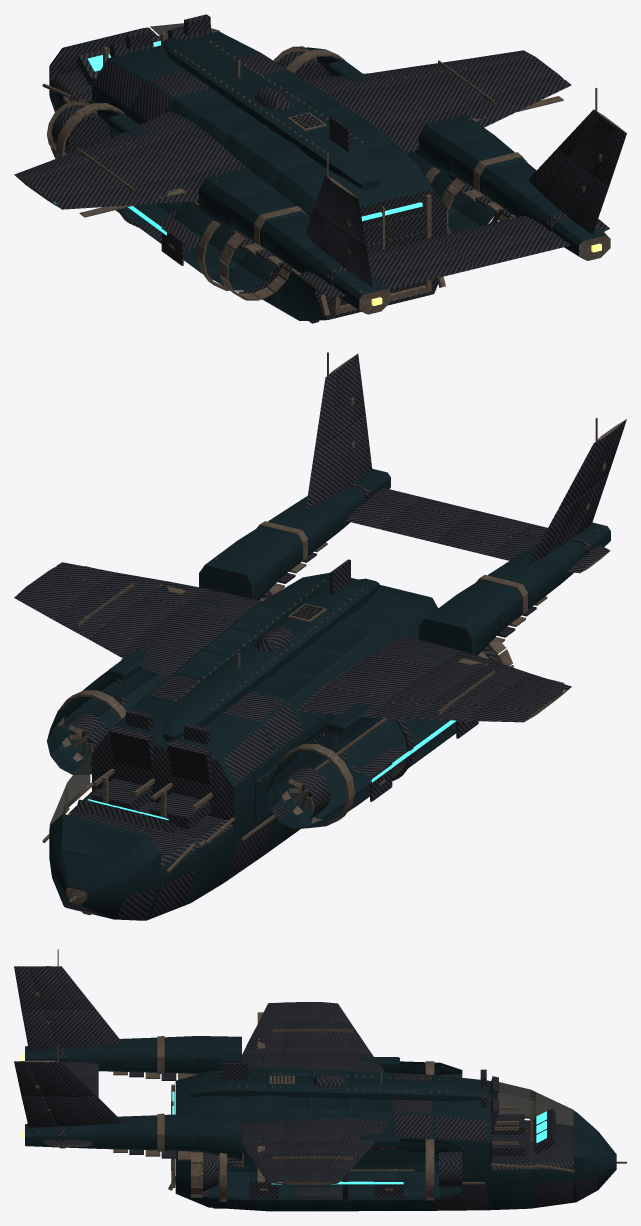
3 views of the same model, one above another, from view 1: azimuth 30°, elevation 25°; view 2: azimuth 150°, elevation 25°; view 3: azimuth 270°, elevation 25° (orthographic). The views are drawn at different scales.
Parts seen in each view (by area): view 1: kb7_core, kb7_tail_r, kb7_wing_r, kb7_wing_l, kb7_tail_l; view 2: kb7_core, kb7_tail_r, kb7_wing_r, kb7_wing_l, kb7_tail_l; view 3: kb7_core, kb7_tail_l, kb7_tail_r, kb7_wing_l, kb7_wing_r.
Part boxes in pixels (x1=…): kb7_core: x1=42, y1=14, x2=610, y2=323; kb7_tail_r: x1=434, y1=87, x2=626, y2=268; kb7_wing_r: x1=372, y1=50, x2=571, y2=127; kb7_wing_l: x1=14, y1=134, x2=198, y2=217; kb7_tail_l: x1=299, y1=153, x2=476, y2=297; kb7_core: x1=42, y1=469, x2=610, y2=920; kb7_tail_r: x1=305, y1=352, x2=476, y2=542; kb7_wing_r: x1=14, y1=562, x2=207, y2=656; kb7_wing_l: x1=370, y1=651, x2=571, y2=722; kb7_tail_l: x1=435, y1=418, x2=626, y2=573; kb7_core: x1=20, y1=1036, x2=626, y2=1211; kb7_tail_l: x1=14, y1=949, x2=123, y2=1095; kb7_tail_r: x1=14, y1=1044, x2=122, y2=1146; kb7_wing_l: x1=242, y1=1002, x2=372, y2=1055; kb7_wing_r: x1=242, y1=1141, x2=372, y2=1184.
Bounding box in the file's own units: 5.8 × 2.95 × 8.34.
Materials: 16 (10 with a texture image).
